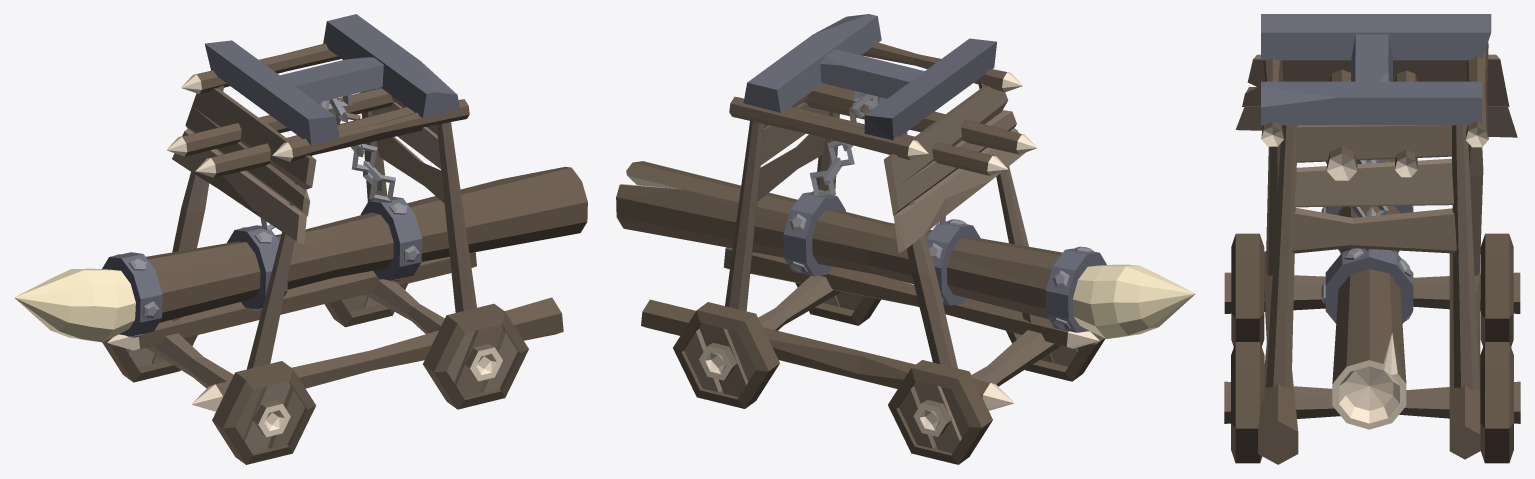
File: _BETTERING_RAM.fbx
The picture shows the model from 3 angles, left to right: view 1: azimuth 30°, elevation 25°; view 2: azimuth 150°, elevation 25°; view 3: azimuth 270°, elevation 25°; orthographic projection. The views are drawn at different scales.
Visible parts, largest first — view 1: BETTERING_RAM1; view 2: BETTERING_RAM1; view 3: BETTERING_RAM1.
Boxes of the visible parts, <box> form: BETTERING_RAM1: <box>14,14,587,464</box>; BETTERING_RAM1: <box>616,14,1195,464</box>; BETTERING_RAM1: <box>1224,14,1520,464</box>.
Bounding box in the file's own units: 621 × 339 × 258.
